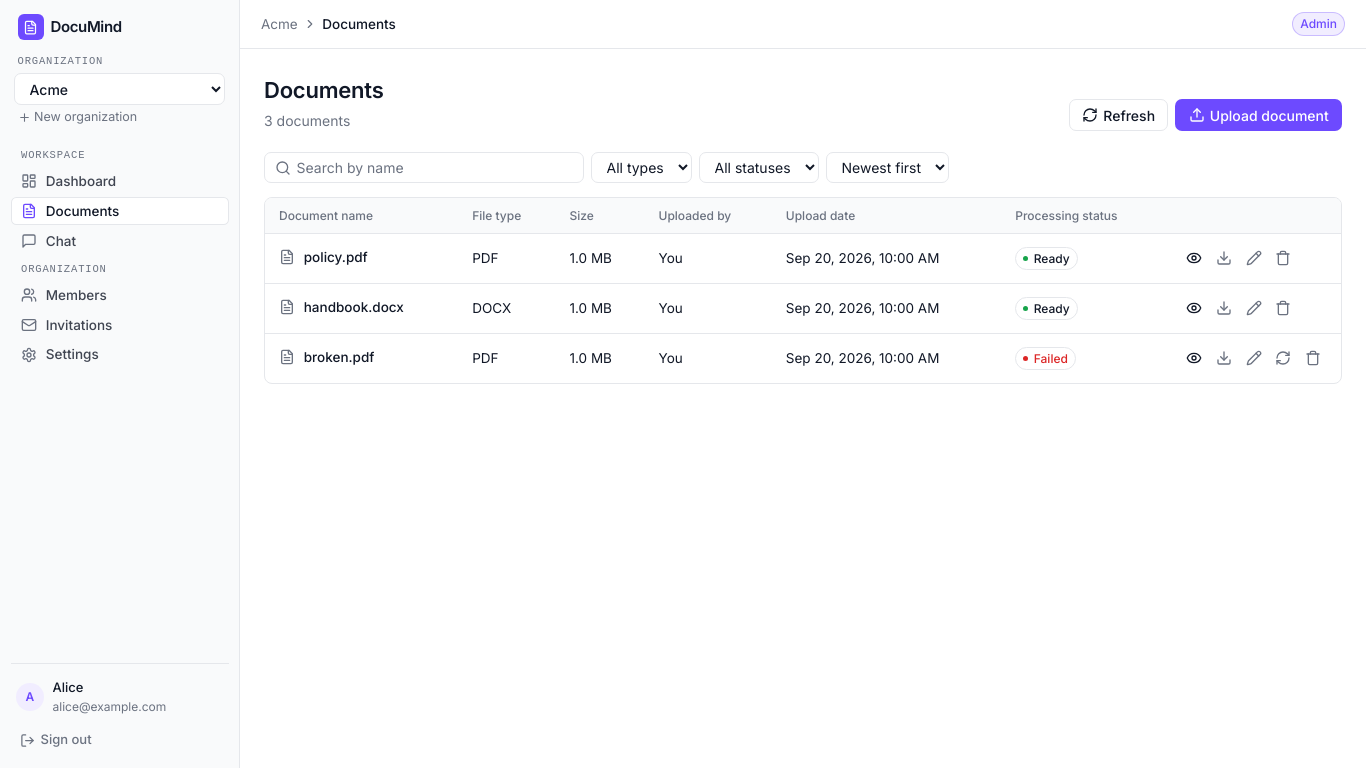
Test case: Documents filters › searches, filters by type and status over the loaded documents
Expected: the number of rows is 4, [265,198,1341,233]; [265,234,1341,283]; [265,283,1341,333]; [265,333,1341,383]
Type "hand" into the search field named "Search documents". click: (424, 168)
box: [264,152,584,183]
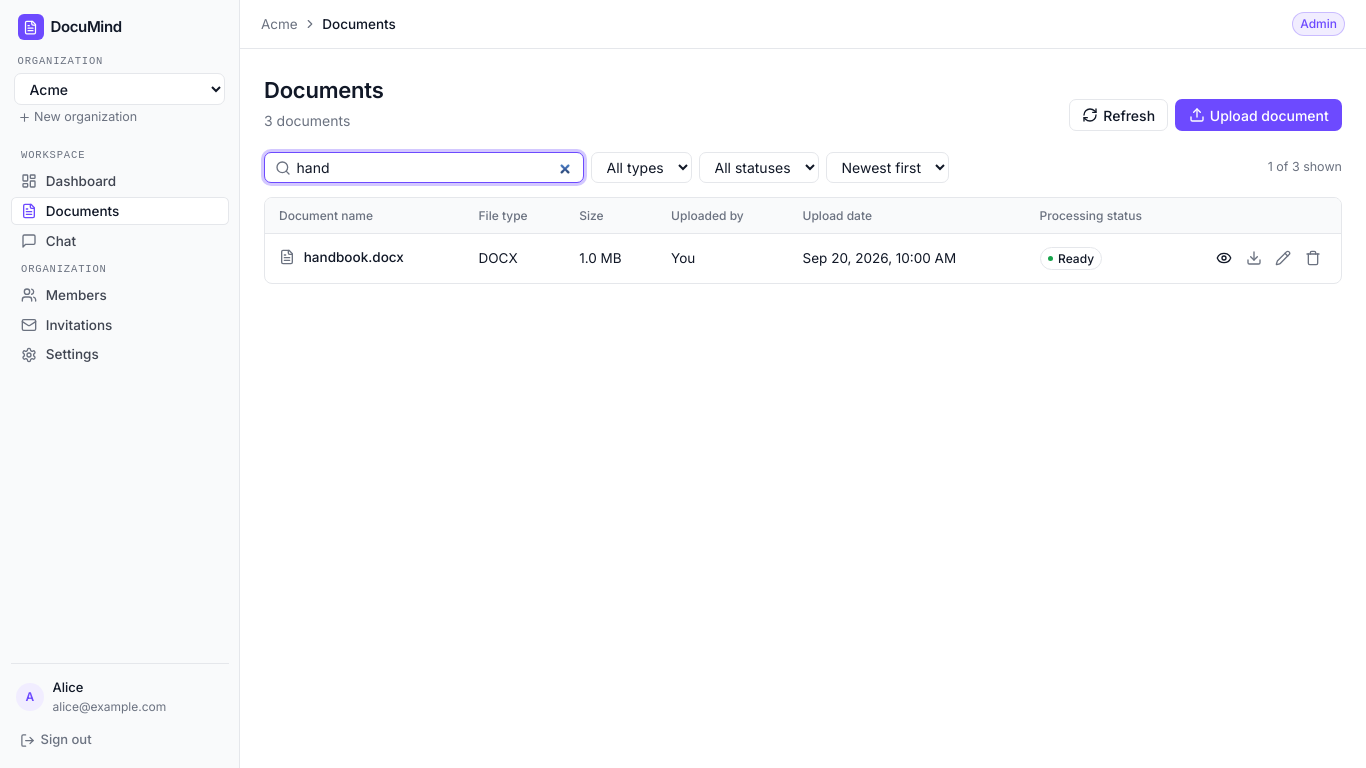
Expected: the number of rows is 2, [265,198,1341,233]; [265,234,1341,283]
Clear the search field named "Search documents". click: (424, 168)
box: [264,152,584,183]
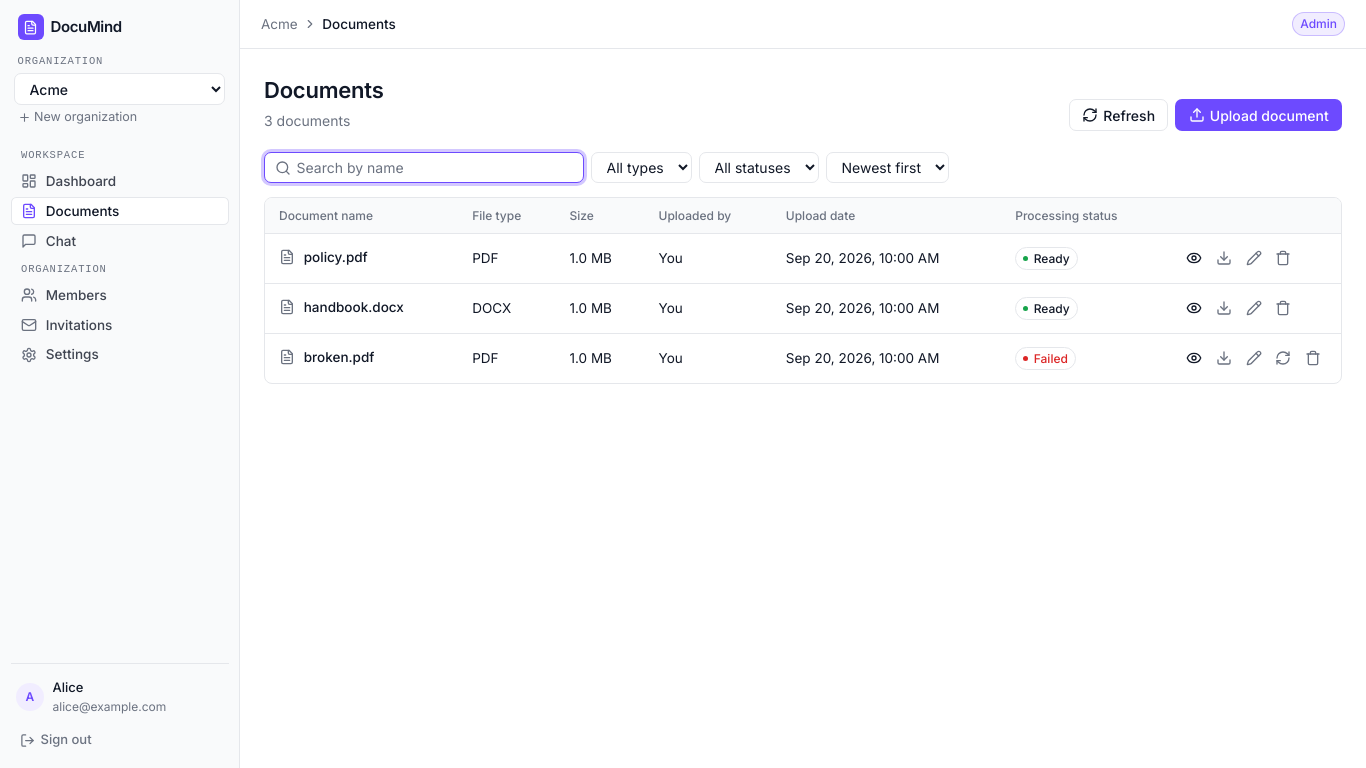
Select "PDF" in the 1st dropdown named "File type". click: (642, 168)
box: [591,152,692,183]
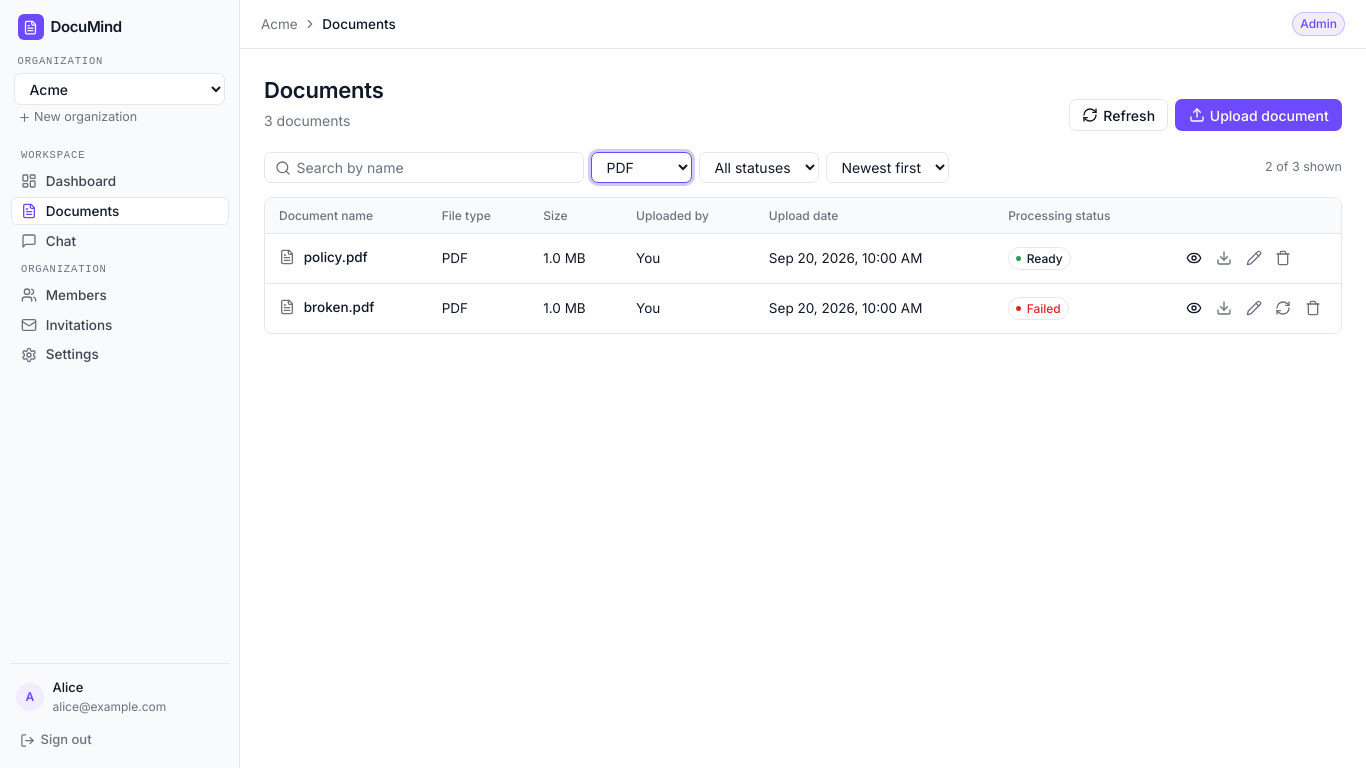
Select "Failed" in the 2nd dropdown named "Processing status". click: (759, 168)
box: [699,152,819,183]
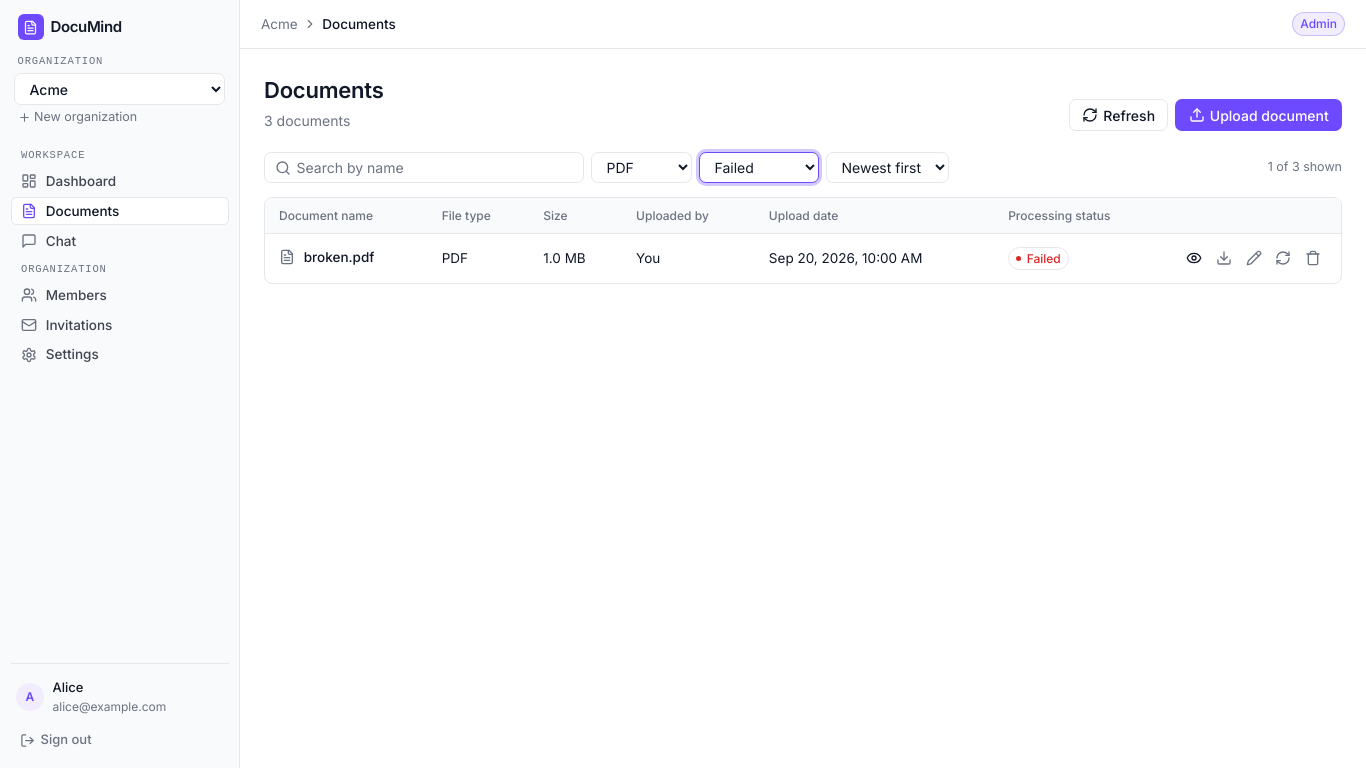
Expected: the text "broken.pdf" is shown, [304,247,374,267]
Expected: the number of rows is 2, [265,198,1341,233]; [265,234,1341,283]
